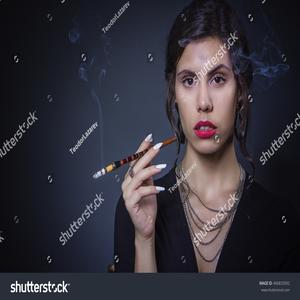cigarette: (92, 137, 169, 181)
